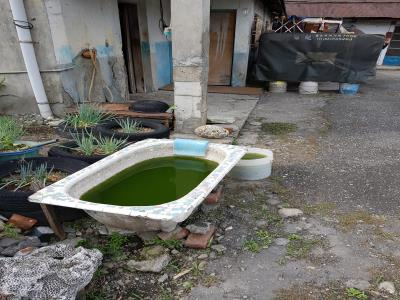bowl: (226, 146, 274, 182), (298, 79, 320, 94), (267, 80, 289, 95)
tire: (94, 117, 170, 140)
tub: (27, 135, 245, 237)
